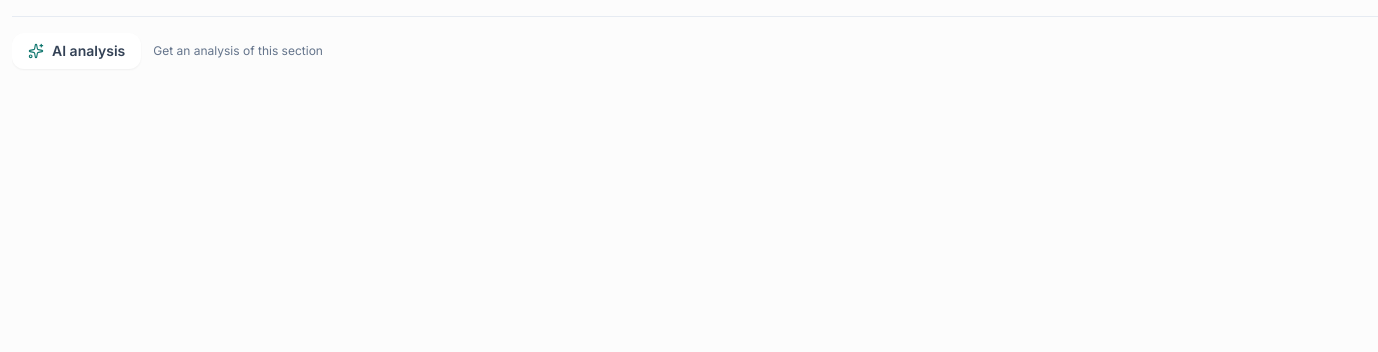
SectionAIAnalysis Component › 2. Clicking button transitions to loading state with aria-busy, disabled button, and skeleton
The width and height of the screenshot is (1378, 352).
Click the button "AI analysis".
click(77, 51)  # box top-left (12, 33), bottom-right (141, 69)
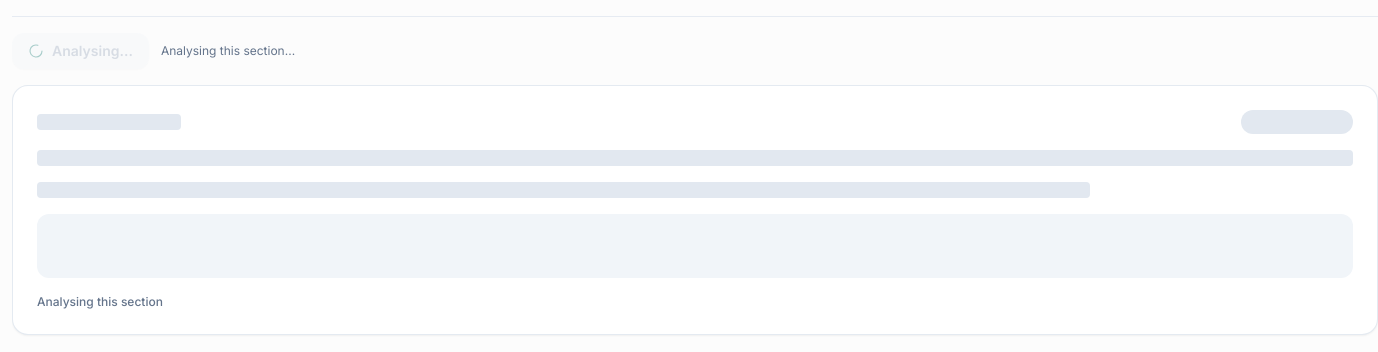
expect the button "Analysing..." is disabled: met, box top-left (12, 33), bottom-right (149, 69)
expect the message "Analysing this section" is shown: met
expect the text "Analysing this section" is shown: met, box top-left (37, 294), bottom-right (163, 309)
